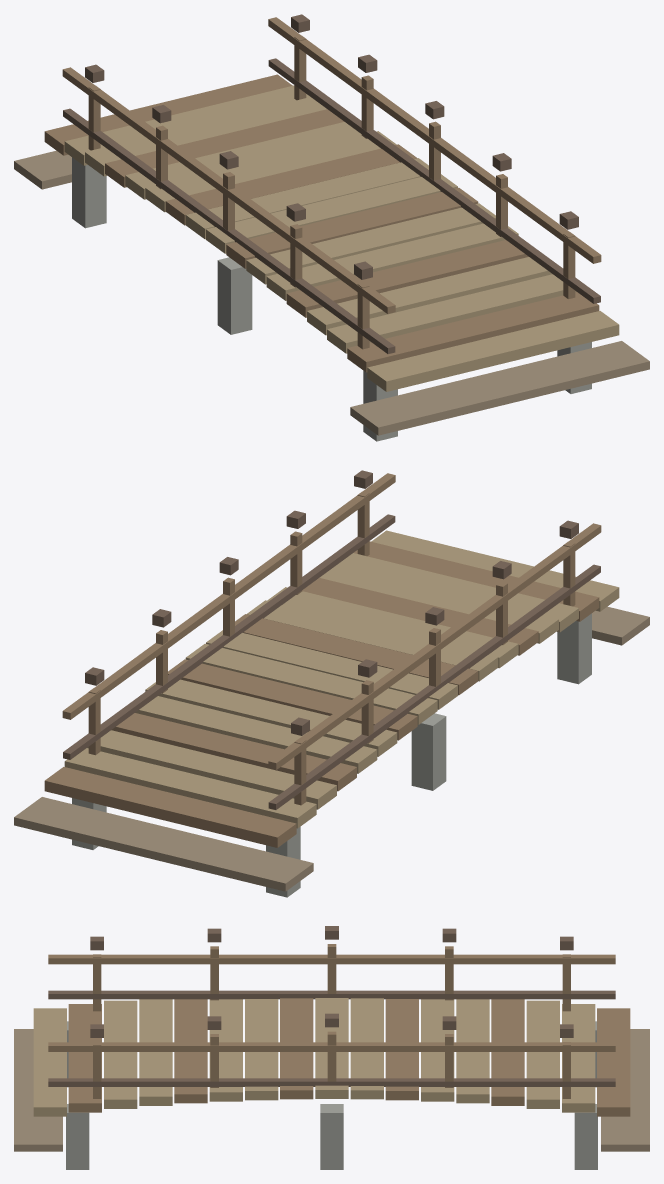
File: river_bridge_1000.glb
The picture shows the model from 3 angles, top to bottom: view 1: azimuth 30°, elevation 25°; view 2: azimuth 150°, elevation 25°; view 3: azimuth 270°, elevation 25°; orthographic projection. The views are drawn at different scales.
Parts seen in each view (by area): view 1: river_bridge_1000_roof, river_bridge_1000_wood, river_bridge_1000_earth, river_bridge_1000_darkwood, river_bridge_1000_stone; view 2: river_bridge_1000_roof, river_bridge_1000_wood, river_bridge_1000_earth, river_bridge_1000_darkwood, river_bridge_1000_stone; view 3: river_bridge_1000_wood, river_bridge_1000_roof, river_bridge_1000_darkwood, river_bridge_1000_earth, river_bridge_1000_stone.
Boxes of the visible parts, x1,y1,x2,y2 form: river_bridge_1000_roof: (64, 85, 619, 391); river_bridge_1000_wood: (44, 17, 601, 372); river_bridge_1000_earth: (14, 150, 649, 435); river_bridge_1000_darkwood: (63, 14, 600, 353); river_bridge_1000_stone: (72, 157, 591, 441); river_bridge_1000_roof: (64, 530, 619, 828); river_bridge_1000_wood: (44, 473, 601, 847); river_bridge_1000_earth: (14, 606, 649, 891); river_bridge_1000_darkwood: (63, 470, 600, 809); river_bridge_1000_stone: (72, 613, 591, 897); river_bridge_1000_wood: (48, 944, 630, 1116); river_bridge_1000_roof: (33, 998, 595, 1116); river_bridge_1000_darkwood: (48, 926, 615, 1086); river_bridge_1000_earth: (14, 1029, 649, 1151); river_bridge_1000_stone: (66, 1021, 597, 1169).
Size of the model in its own units: 7 by 4.27 by 16.25.
